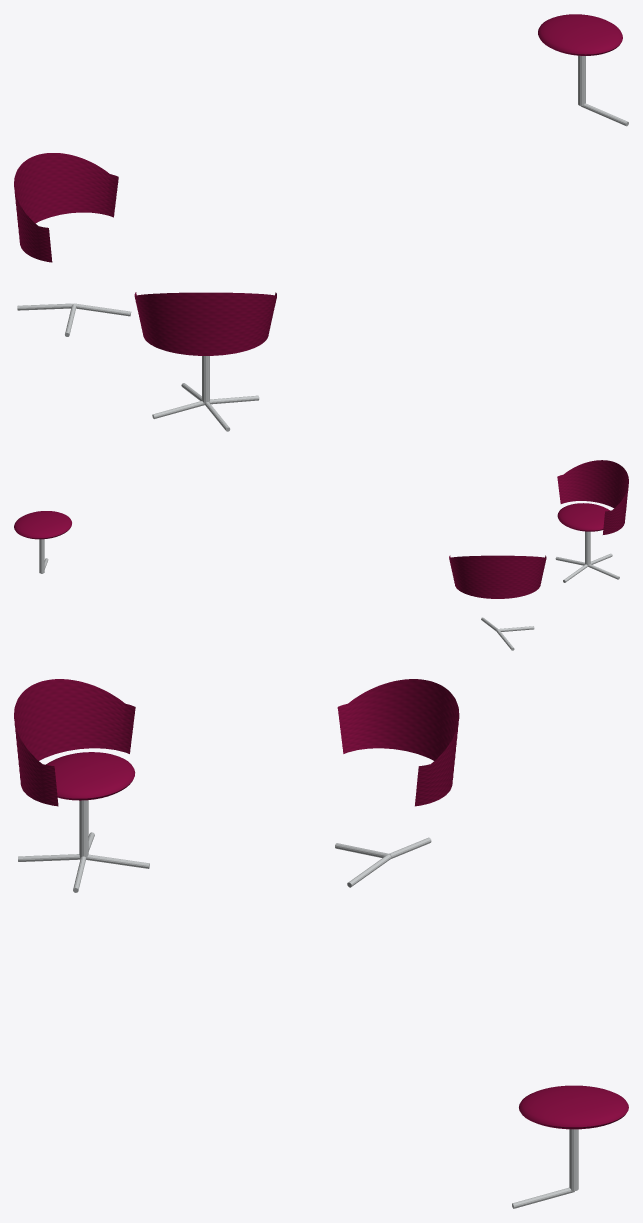
The model's file is SM_L2_Furniture_Solid_788bce91b1_1.fbx.
The picture shows the model from 3 angles, top to bottom: view 1: azimuth 30°, elevation 25°; view 2: azimuth 150°, elevation 25°; view 3: azimuth 270°, elevation 25°; orthographic projection. The views are drawn at different scales.
Visible parts, largest first — view 1: SM_L2_Furniture_Solid_788bce91b1_1; view 2: SM_L2_Furniture_Solid_788bce91b1_1; view 3: SM_L2_Furniture_Solid_788bce91b1_1.
Part boxes in pixels (x1=…): SM_L2_Furniture_Solid_788bce91b1_1: x1=14, y1=14, x2=628, y2=431; SM_L2_Furniture_Solid_788bce91b1_1: x1=14, y1=460, x2=628, y2=650; SM_L2_Furniture_Solid_788bce91b1_1: x1=14, y1=679, x2=628, y2=1208.
Size of the model in its own units: 4.13 by 2.79 by 0.8179.
